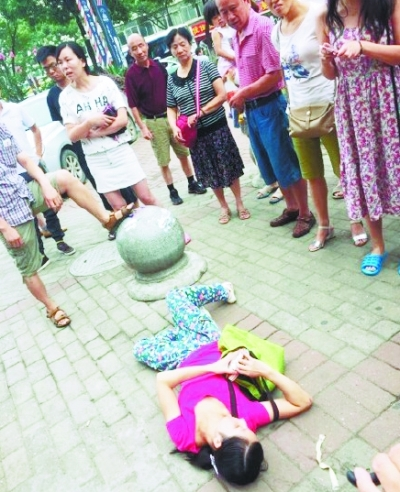10+: (1, 1, 398, 492)
down: (130, 280, 318, 489)
